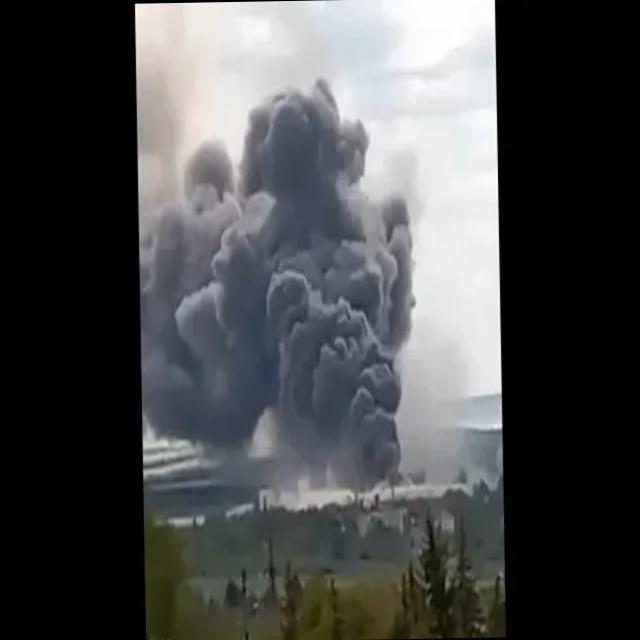Smoke: (138, 78, 420, 488)
